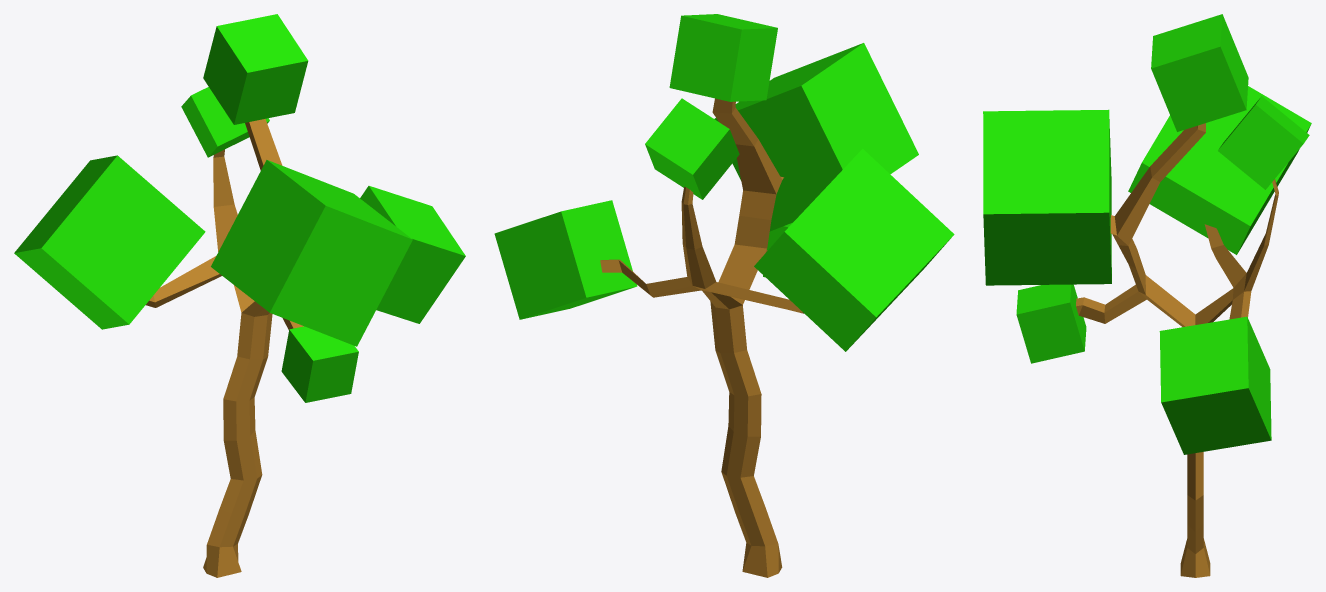
The model's file is Tree.glb.
3 views of the same model, side by side, from view 1: azimuth 30°, elevation 25°; view 2: azimuth 150°, elevation 25°; view 3: azimuth 270°, elevation 25° (orthographic). The views are drawn at different scales.
Visible parts, largest first — view 1: Cube; view 2: Cube; view 3: Cube.
Part boxes in pixels (x1,y1,x2,y2): Cube: [14, 14, 465, 577]; Cube: [494, 14, 954, 577]; Cube: [983, 14, 1311, 577].
Size of the model in its own units: 34.16 by 41.48 by 22.09.
